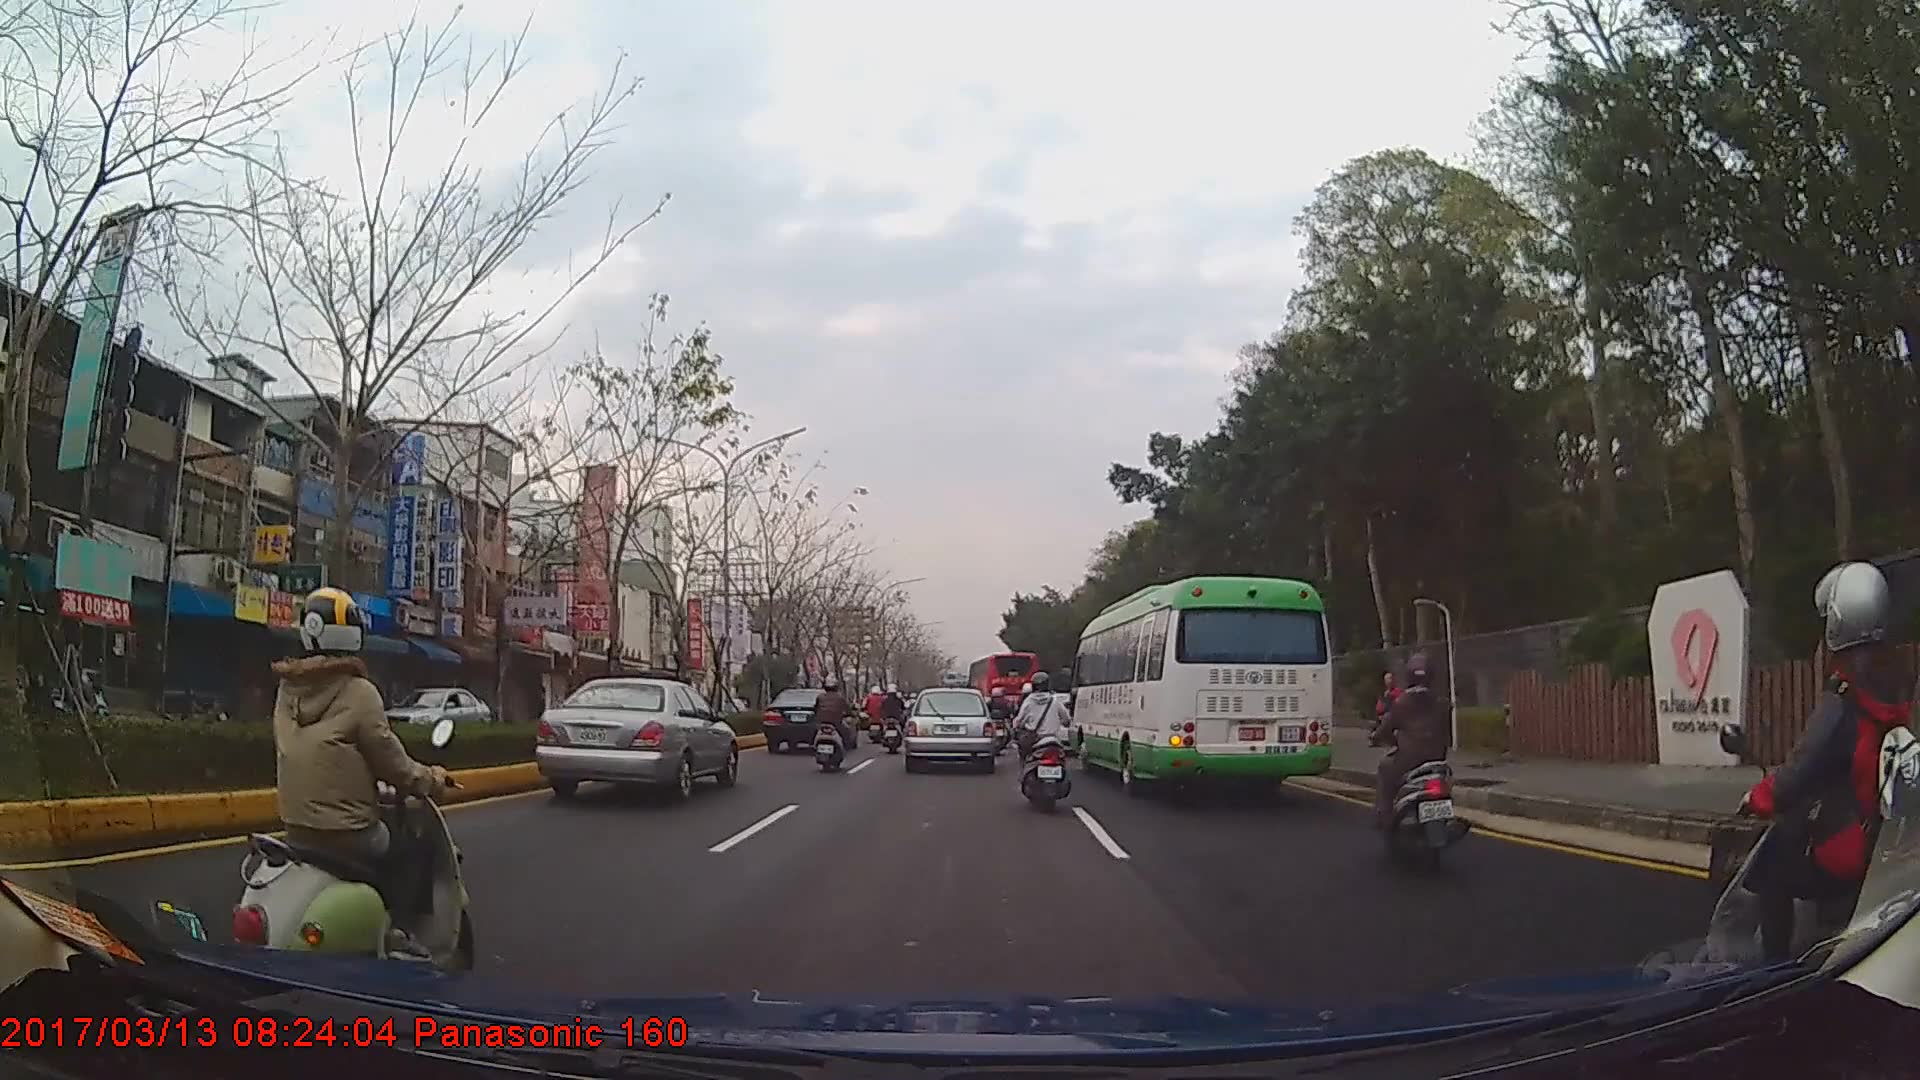pedestrian: (1366, 673, 1408, 751)
rider: (222, 585, 471, 1023), (1707, 559, 1920, 1049), (1367, 652, 1473, 867), (1008, 673, 1068, 813), (812, 677, 853, 772), (984, 687, 1010, 755), (879, 684, 905, 753), (862, 685, 890, 746)
vehicle: (1065, 575, 1333, 795), (535, 675, 737, 804), (904, 686, 998, 773), (371, 678, 492, 739), (763, 685, 859, 753), (967, 649, 1036, 719)
